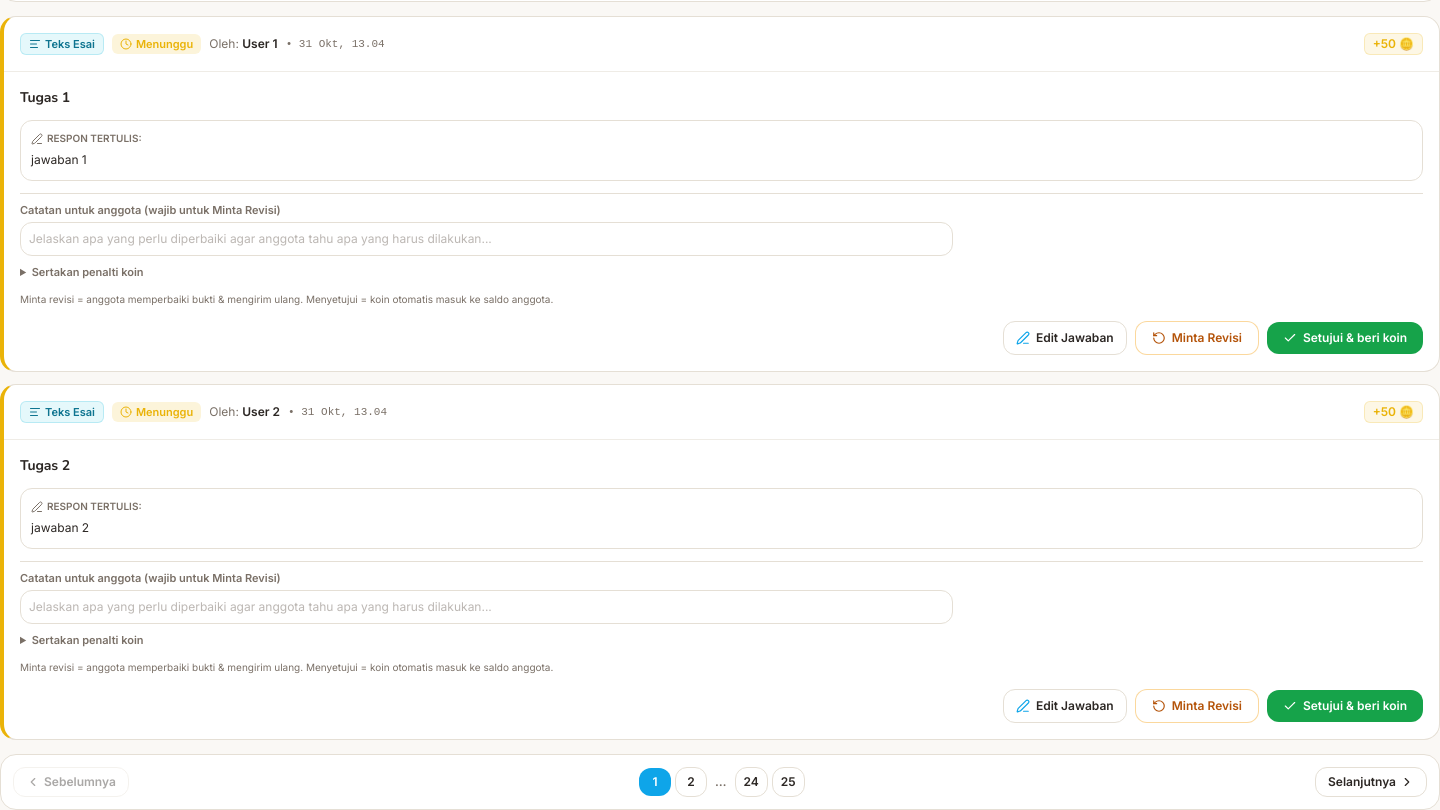
Scenario: SubmissionsQueue pagination › renders numbered pages and fetches only the clicked page
The width and height of the screenshot is (1440, 810).
(page scrolled)
Step 1. Click the button named "Halaman 2" → coordinates (691, 782), box [675,767,707,797]
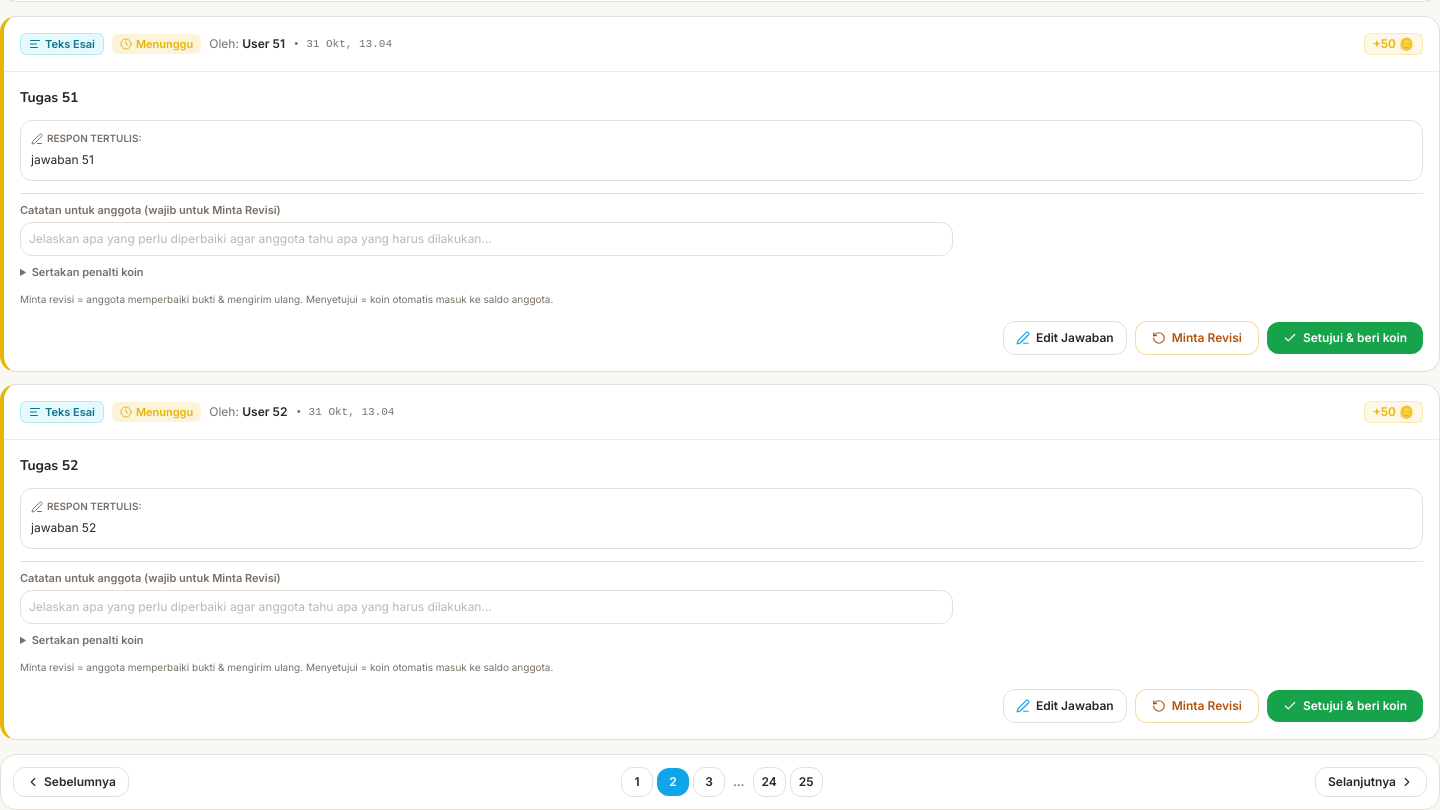
Check: the heading "Tugas 51" is shown, box [20,88,78,107]
